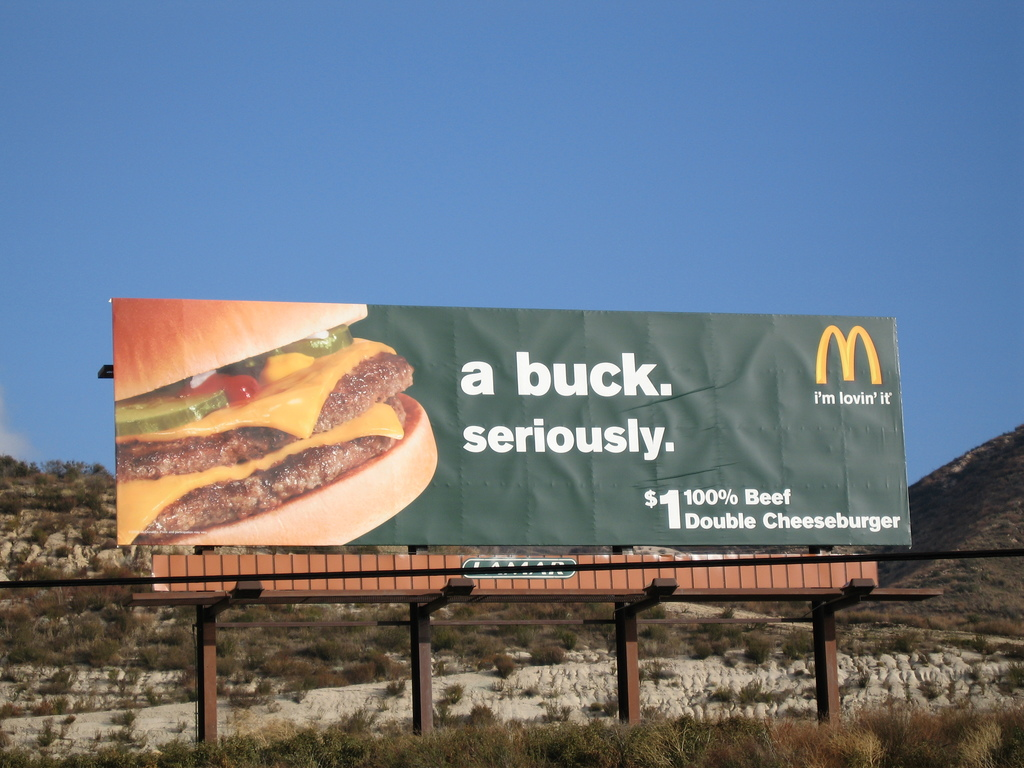Hamburger: (112, 298, 435, 545)
